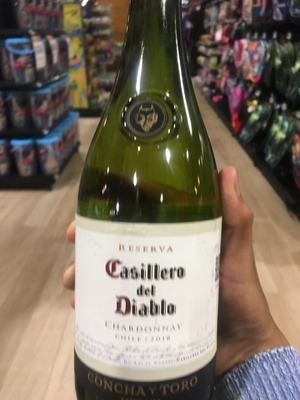casillero del diablo chardonnay: (70, 3, 227, 400)
